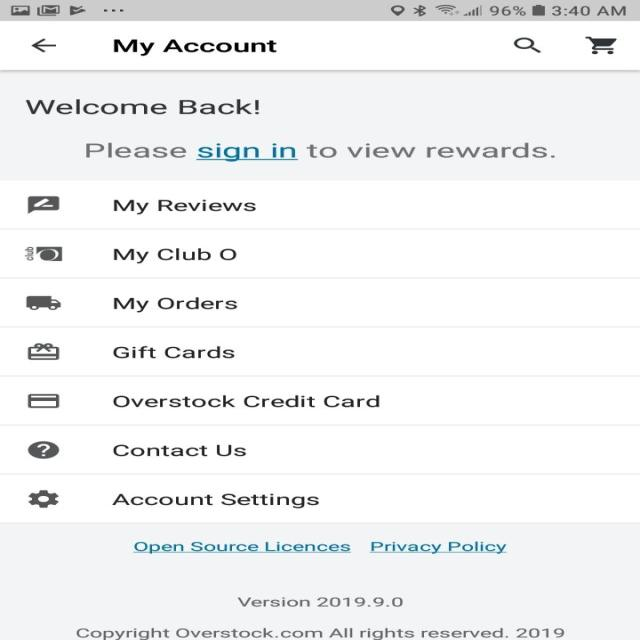Icon: (584, 36, 617, 55), (27, 440, 59, 459), (27, 195, 59, 214), (26, 342, 59, 360), (27, 490, 59, 508), (512, 37, 542, 54), (26, 393, 59, 408), (30, 38, 57, 53)
Image: (24, 246, 62, 261), (26, 296, 61, 310)
Text: (85, 142, 555, 162), (76, 627, 564, 640), (24, 98, 260, 115), (112, 394, 380, 408), (111, 493, 319, 509), (112, 39, 276, 57), (132, 541, 352, 553), (113, 199, 256, 214), (112, 296, 238, 313), (369, 540, 507, 554), (112, 248, 236, 263), (112, 443, 246, 456), (236, 596, 402, 606), (113, 346, 235, 358)
